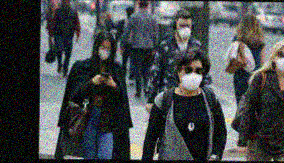with_mask: (179, 64, 204, 91), (176, 21, 192, 41), (96, 44, 112, 62)
